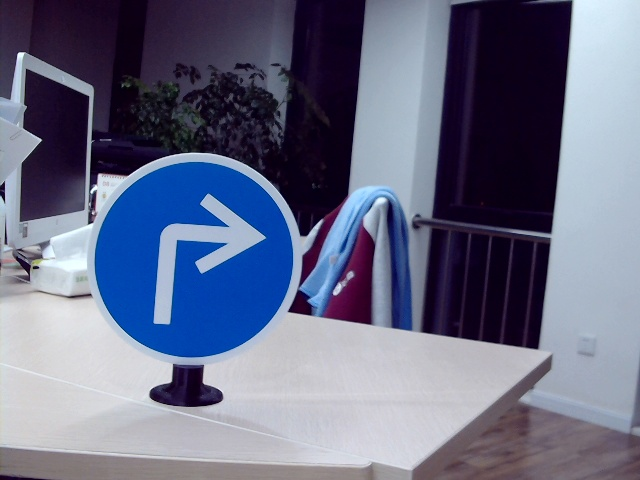turn_right: (144, 191, 266, 330)
